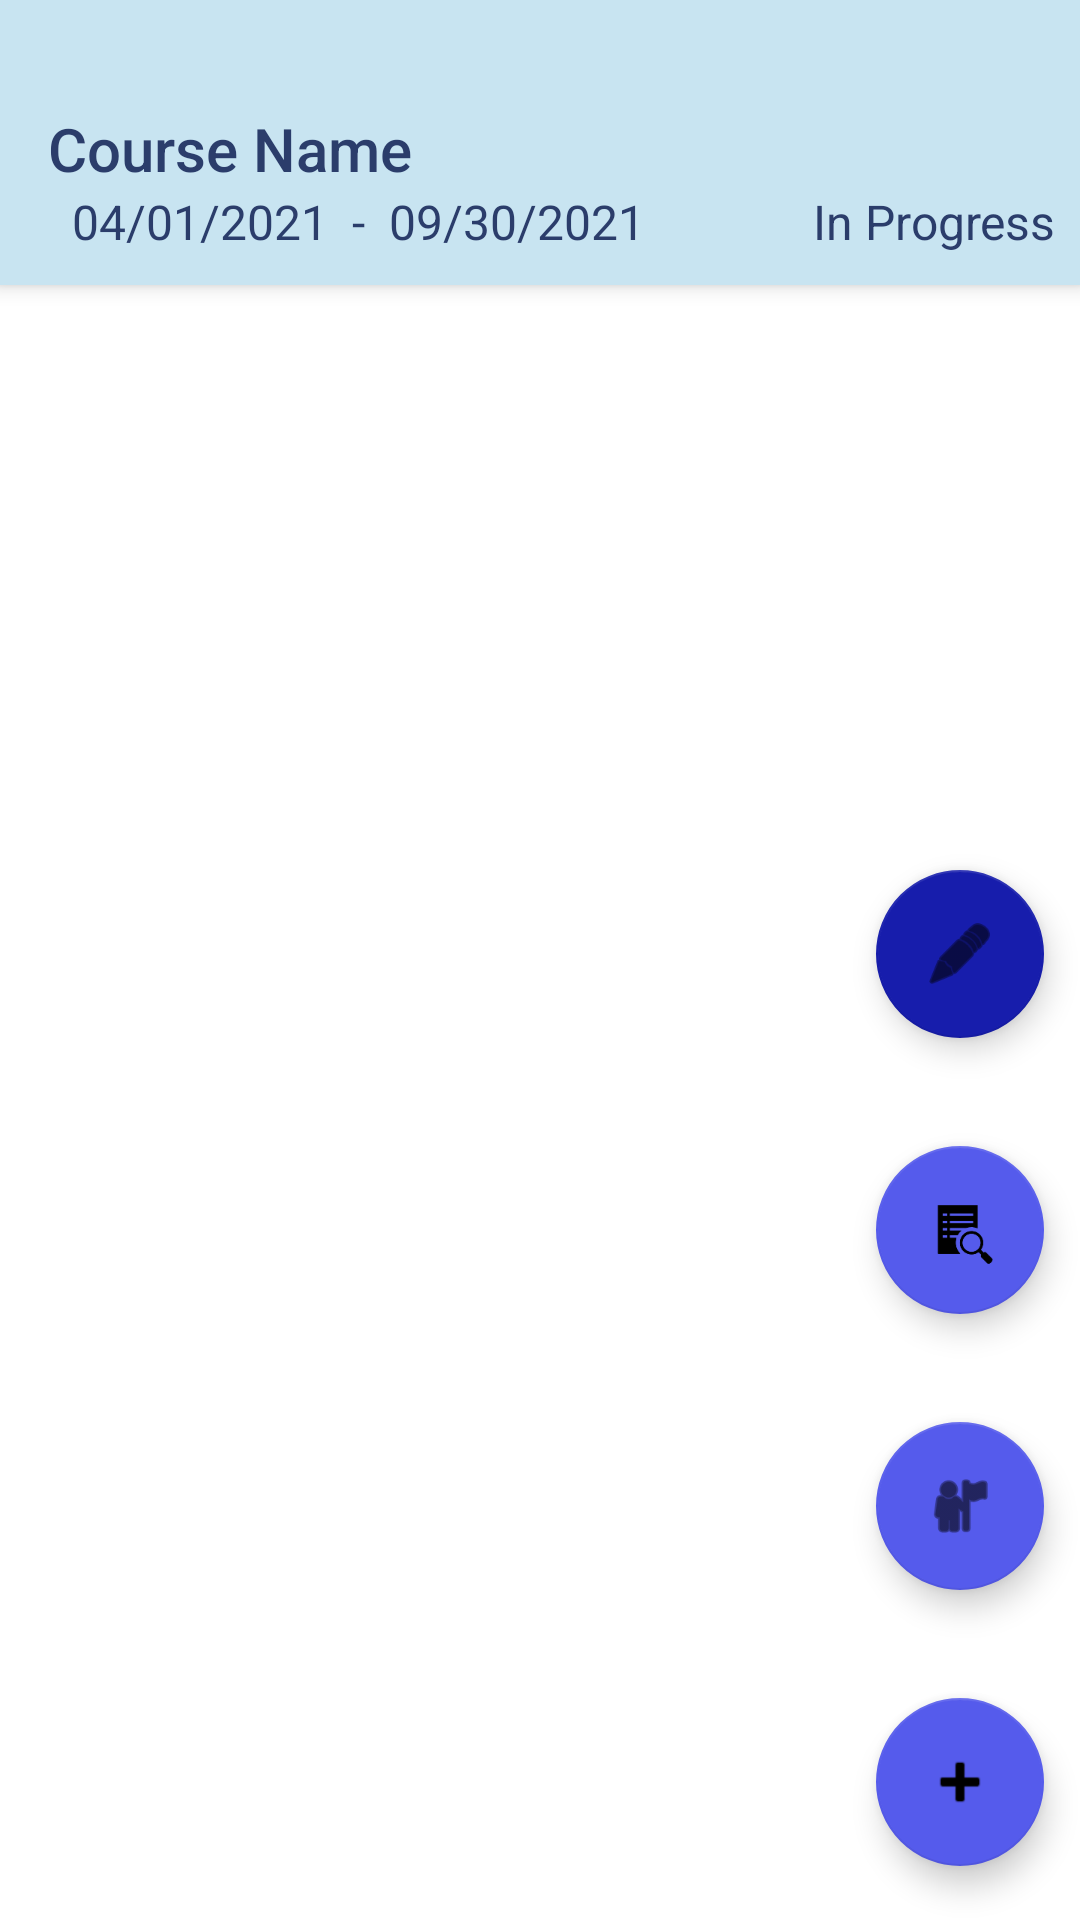

Screen size 1080 × 1920. Icon name, then its box in pixels as (x1, y1, x2, y2):
add: (876, 1698, 1047, 1884)
edit: (876, 870, 1047, 1045)
myplaces: (876, 1422, 1047, 1604)
